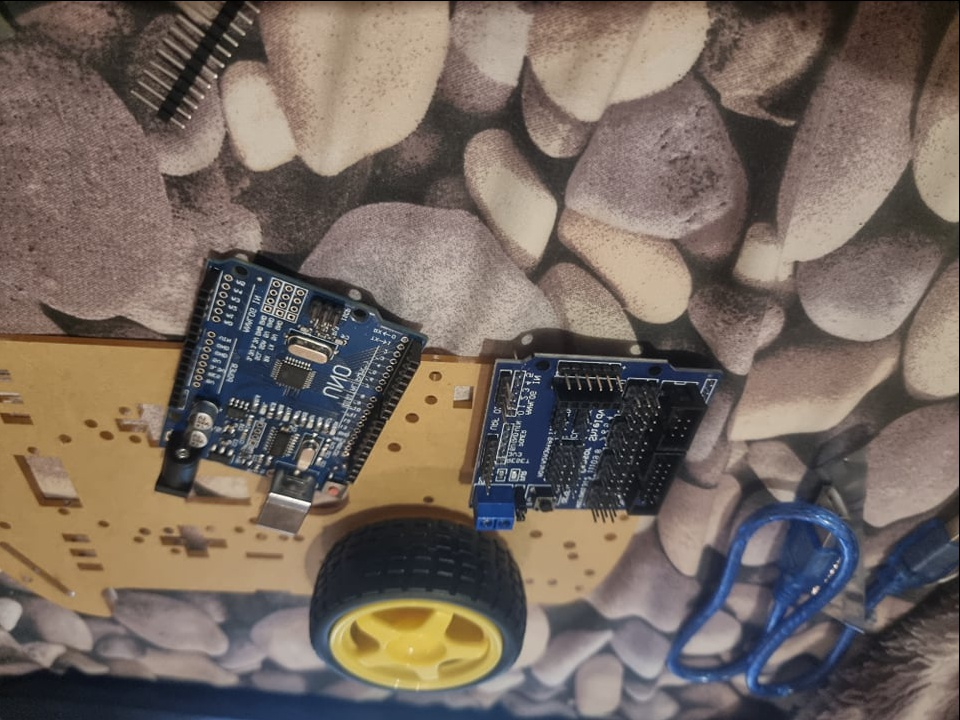5V EXPANSION: (471, 354, 722, 533)
UNO R3: (152, 251, 428, 533)
